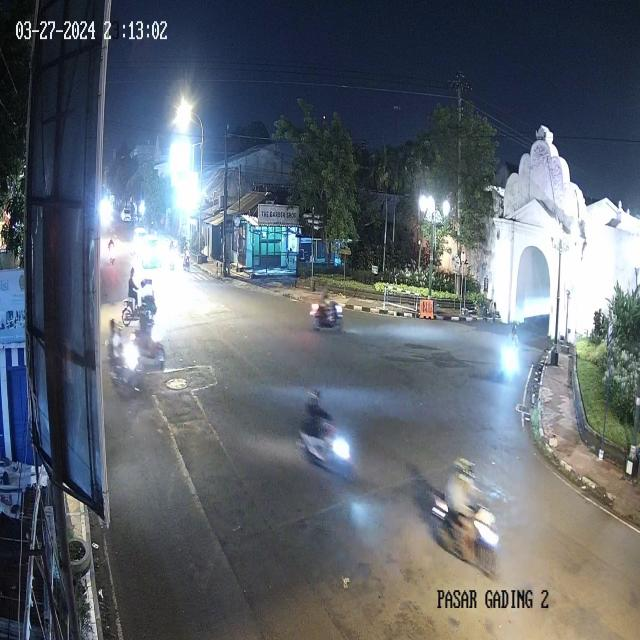car: (140, 231, 166, 273), (130, 221, 148, 266), (120, 205, 132, 225)
motorcycle: (433, 441, 505, 581), (293, 385, 353, 505), (104, 323, 148, 401), (133, 303, 172, 382), (120, 270, 156, 328), (310, 286, 348, 334), (165, 237, 177, 274), (182, 236, 192, 276), (106, 235, 117, 268)
